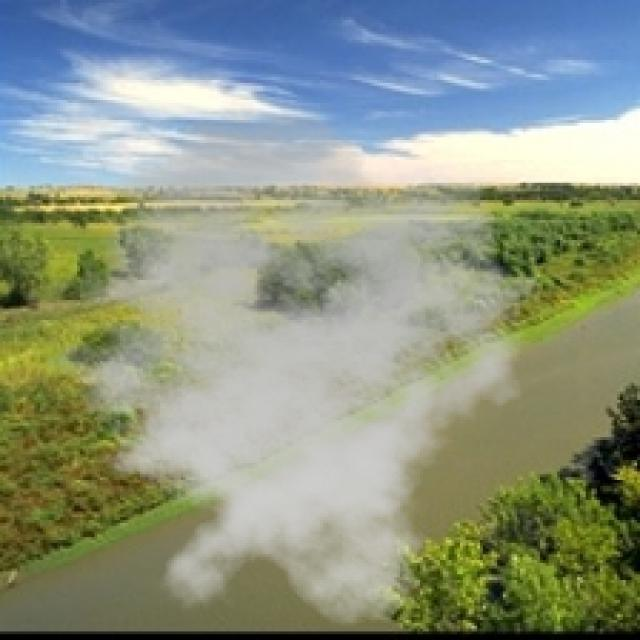smoke: (20, 109, 554, 628)
